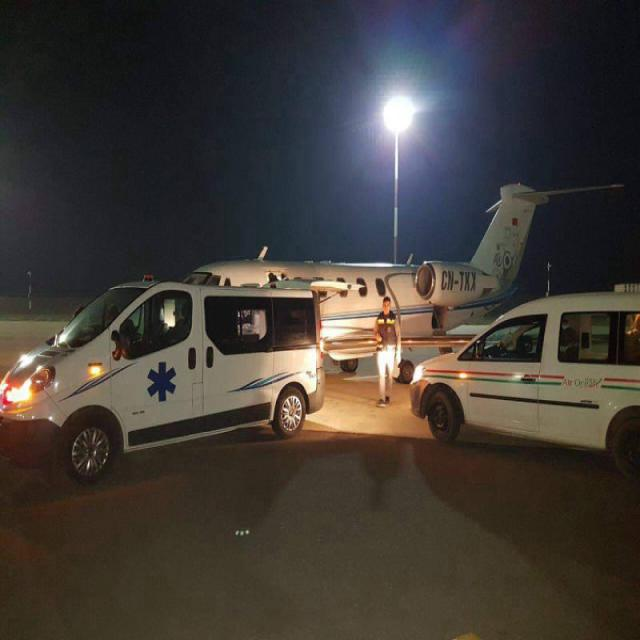ambulance: (2, 271, 319, 490)
